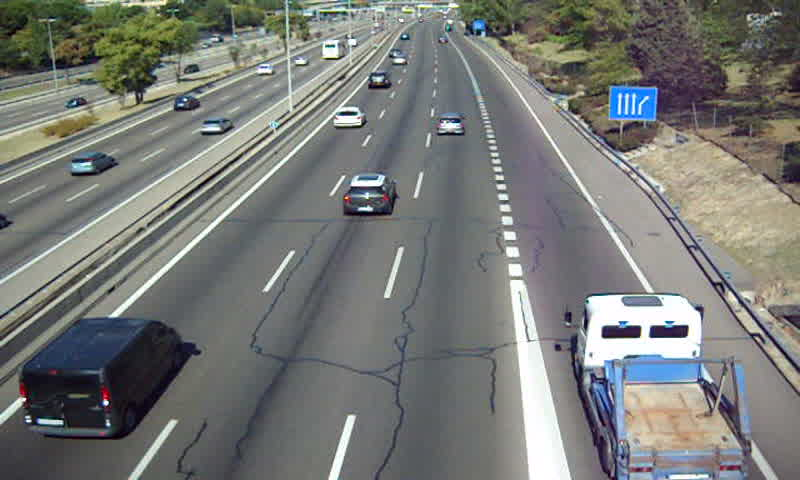car: (343, 174, 398, 218), (331, 107, 365, 128), (436, 112, 464, 135), (365, 73, 390, 91), (390, 54, 408, 68)
small-truck: (578, 295, 748, 480)
van: (20, 318, 182, 440)
